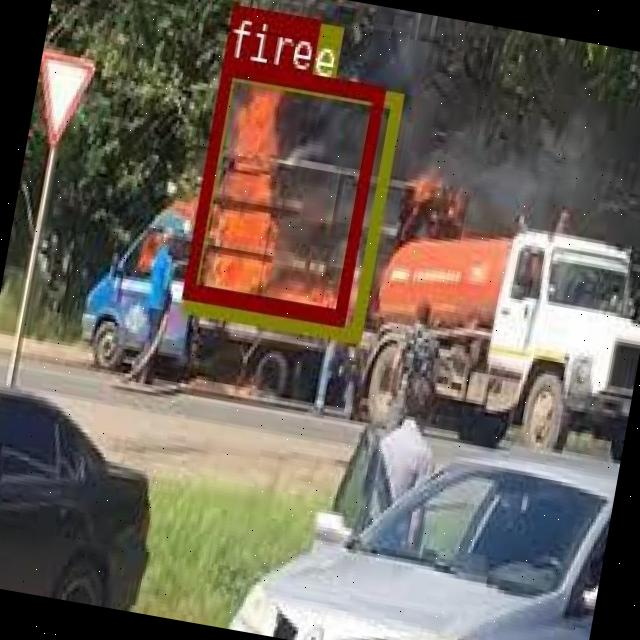fire: (180, 58, 382, 322)
smoke: (180, 61, 402, 339)
